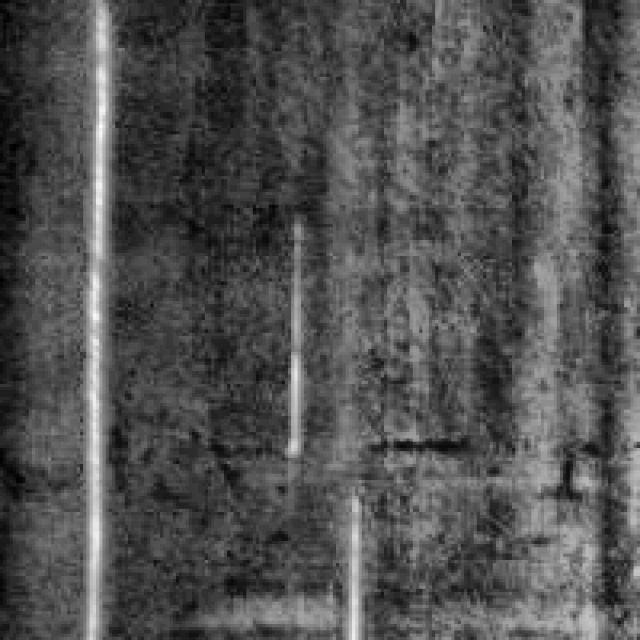Inclusion: (74, 0, 115, 637)
